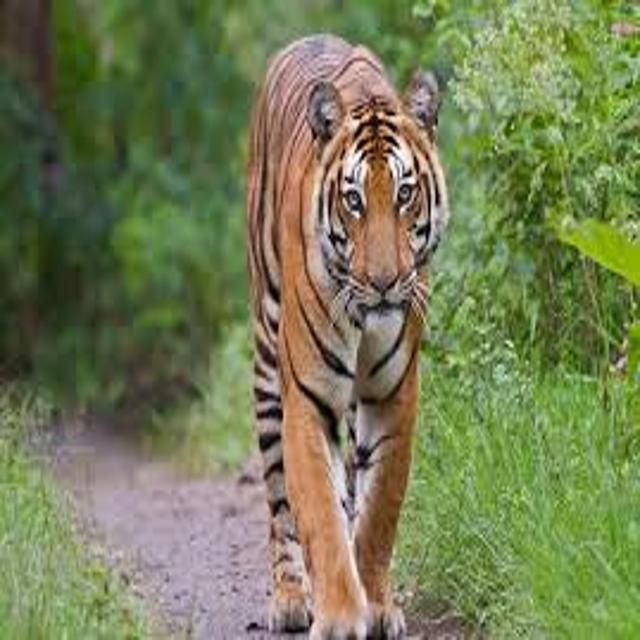tiger: (188, 15, 503, 640)
